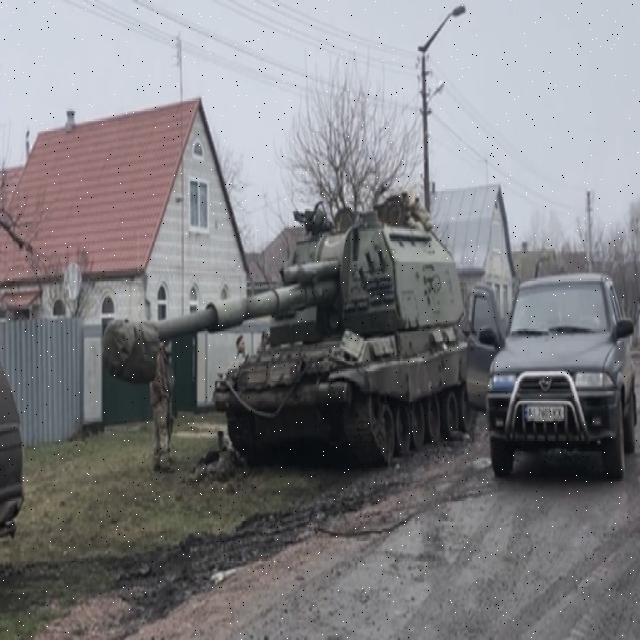ART: (96, 193, 475, 484)
CAR: (482, 260, 638, 478)
